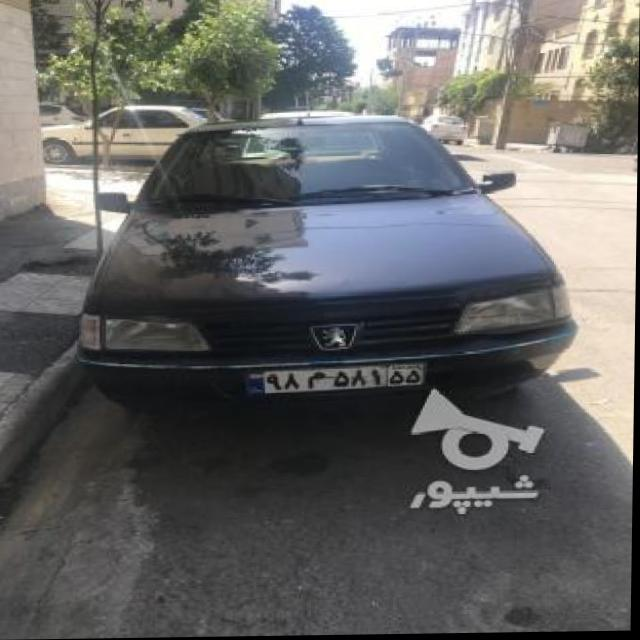licence: (240, 363, 420, 394)
